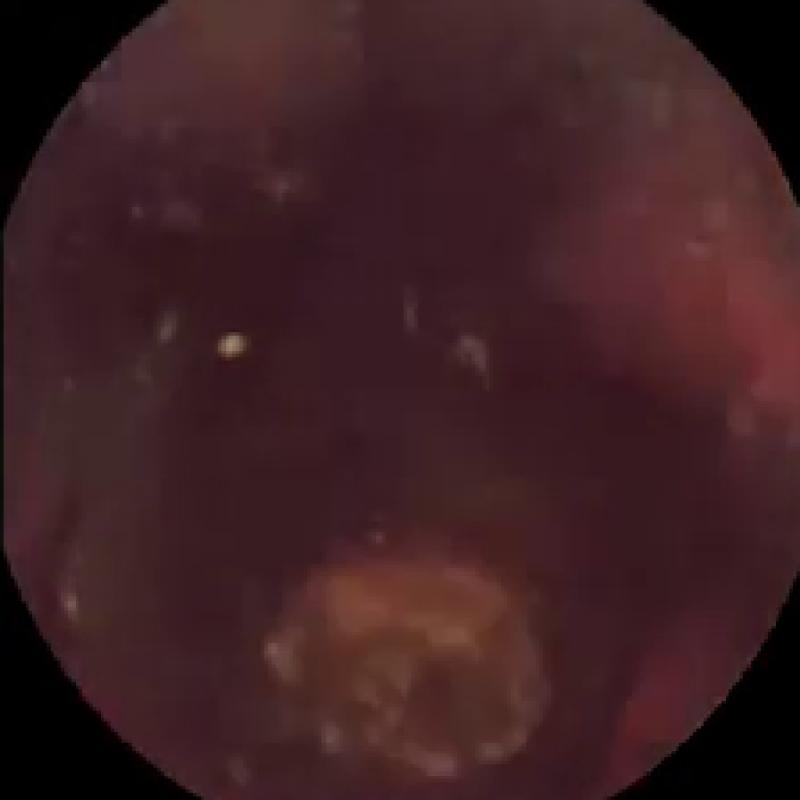bleeding: (550, 98, 800, 416), (103, 0, 346, 154), (613, 576, 778, 780)
